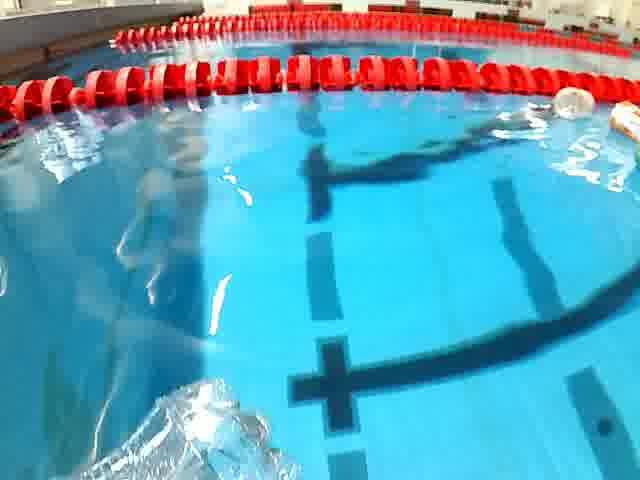Bottle: (51, 372, 322, 480), (544, 82, 606, 123), (601, 98, 640, 144)
